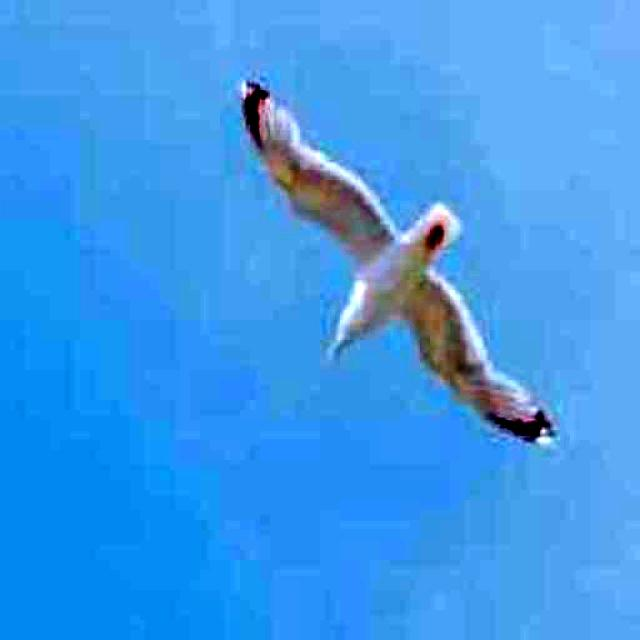airplane: (239, 75, 552, 451)
